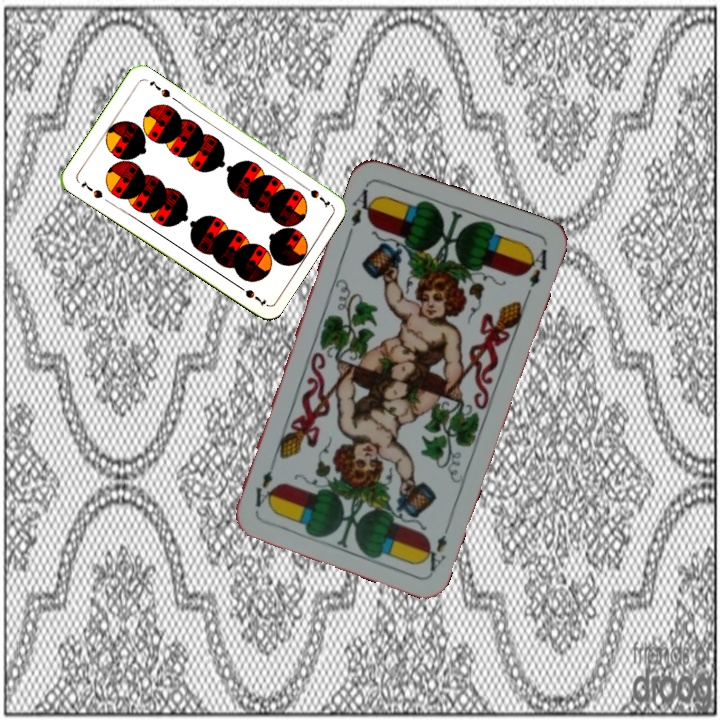EA: (418, 518, 453, 574), (347, 181, 379, 229)
S7: (298, 180, 333, 210), (77, 177, 105, 201)
